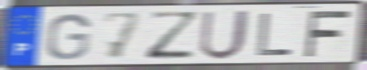7: (101, 11, 143, 62)
F: (302, 9, 355, 59)
G: (44, 12, 93, 62)
L: (255, 11, 294, 58)
U: (197, 8, 253, 62)
Z: (144, 10, 203, 62)
